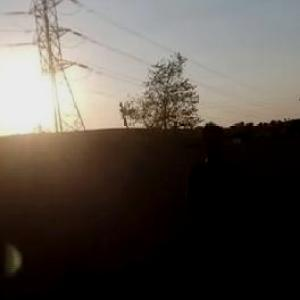follow: (169, 114, 255, 299)
